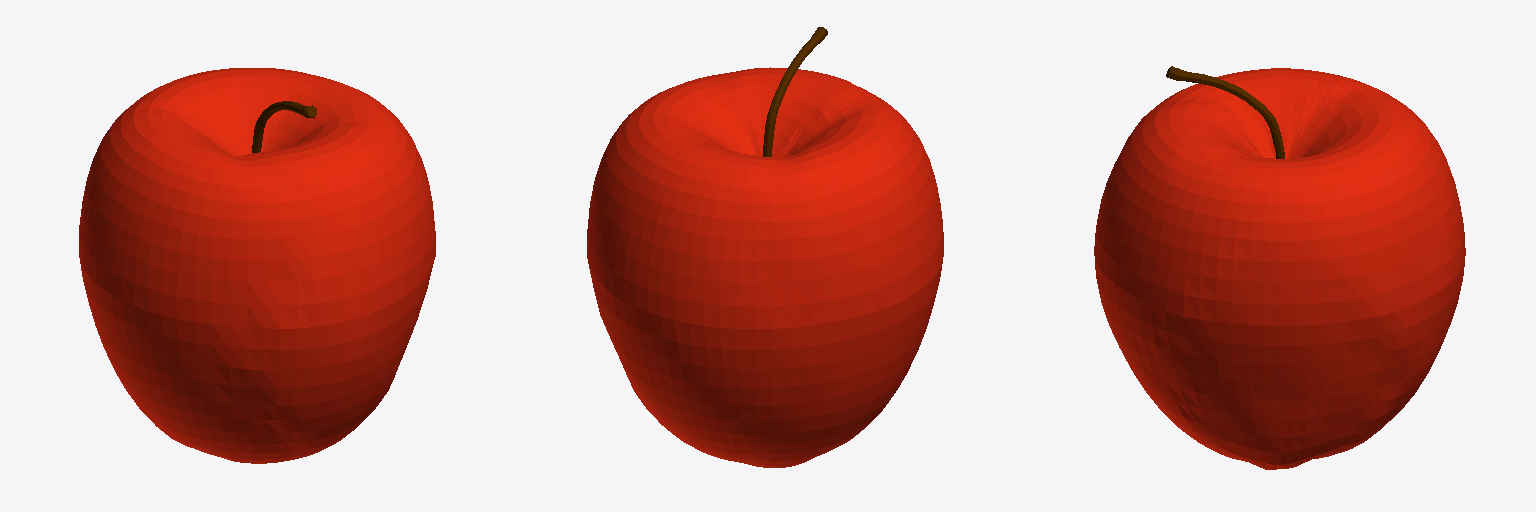
The model's file is apple.obj.
3 views of the same model, side by side, from view 1: azimuth 30°, elevation 25°; view 2: azimuth 150°, elevation 25°; view 3: azimuth 270°, elevation 25° (orthographic).
Visible parts, largest first — view 1: apple_skin, apple_stem; view 2: apple_skin, apple_stem; view 3: apple_skin, apple_stem.
Part boxes in pixels (left/top/right/bottom): apple_skin: left=79, top=68, right=435, bottom=463; apple_stem: left=252, top=101, right=316, bottom=152; apple_skin: left=587, top=67, right=943, bottom=467; apple_stem: left=763, top=27, right=827, bottom=156; apple_skin: left=1094, top=68, right=1465, bottom=469; apple_stem: left=1166, top=66, right=1284, bottom=158.
Bounding box in the file's own units: 65.38 × 77.56 × 68.95.